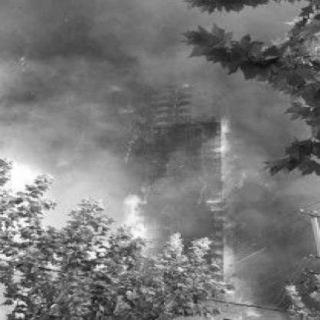Fire: (200, 111, 242, 275), (109, 190, 161, 243)
Smoke: (2, 1, 165, 161)
